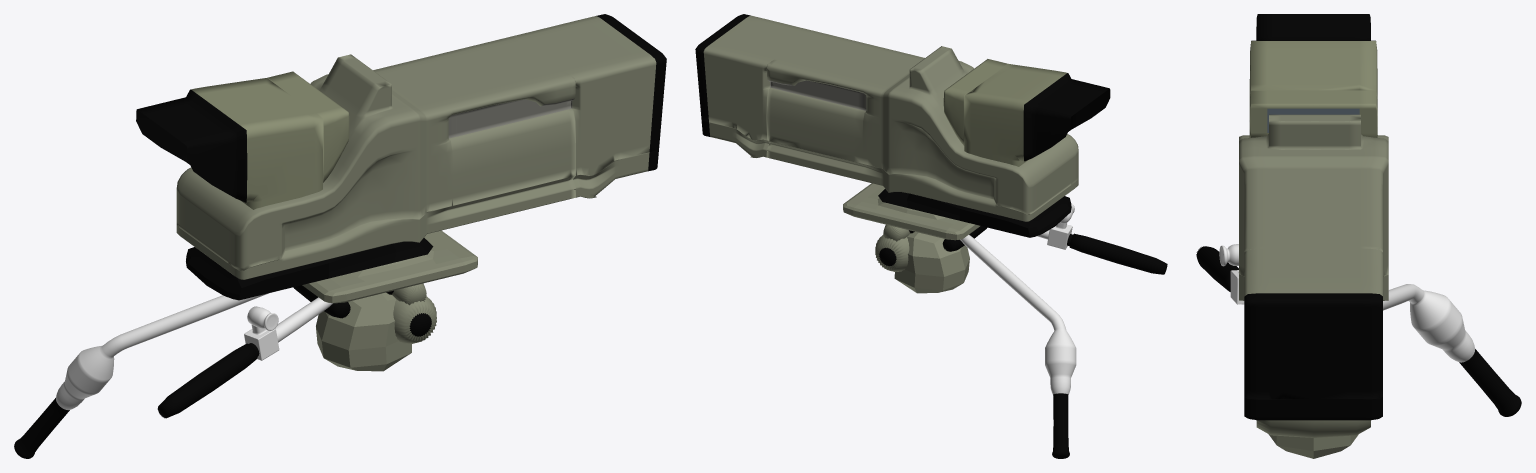
Rendered from camera_new_model.fbx.
The picture shows the model from 3 angles, left to right: view 1: azimuth 30°, elevation 25°; view 2: azimuth 150°, elevation 25°; view 3: azimuth 270°, elevation 25°; orthographic projection. The views are drawn at different scales.
Visible parts, largest first — view 1: Camera Body; view 2: Camera Body; view 3: Camera Body.
Boxes of the visible parts, left/top/right/bottom form: Camera Body: left=14, top=14, right=666, bottom=458; Camera Body: left=695, top=14, right=1167, bottom=458; Camera Body: left=1196, top=14, right=1521, bottom=458.
Bounding box in the file's own units: 115 × 79.57 × 53.91.
